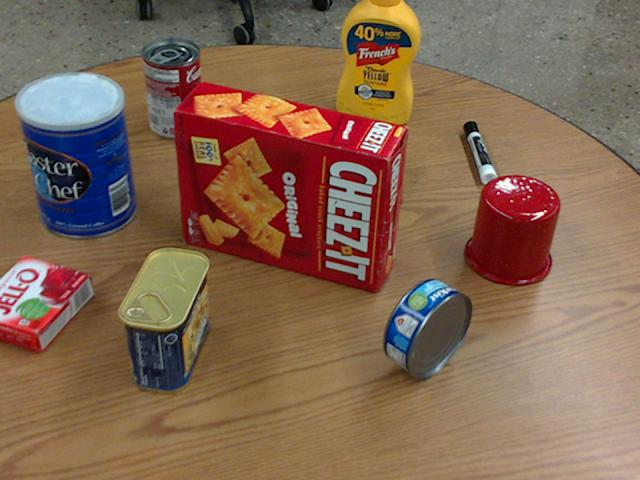cracker_box: (174, 82, 407, 292)
gelatin_box: (0, 255, 90, 349)
large_marker: (464, 121, 497, 185)
master_chef_can: (16, 73, 135, 238)
mug: (464, 174, 559, 284)
mustard_bottle: (338, 0, 420, 124)
potted_meat_can: (115, 245, 207, 391)
sugar_box: (238, 99, 404, 198)
tomato_soup_can: (142, 38, 203, 138)
tuna_fish_can: (384, 278, 471, 377)
